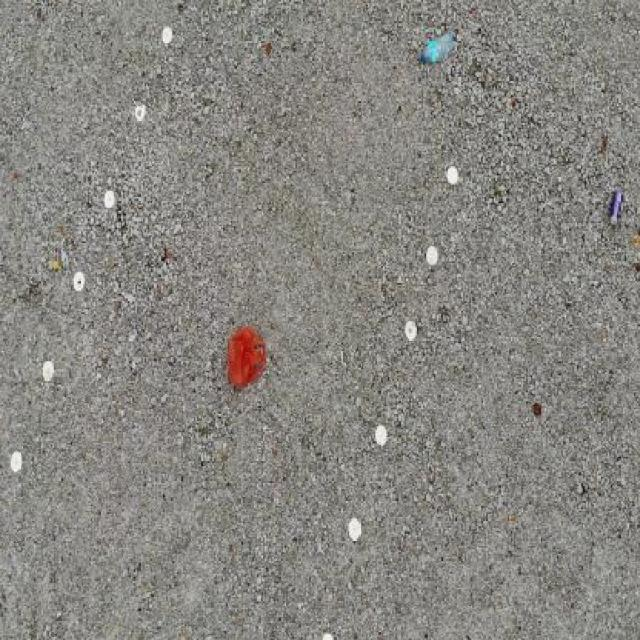Garbage: (226, 328, 266, 392), (418, 28, 455, 64), (610, 191, 622, 225), (532, 403, 541, 418)
